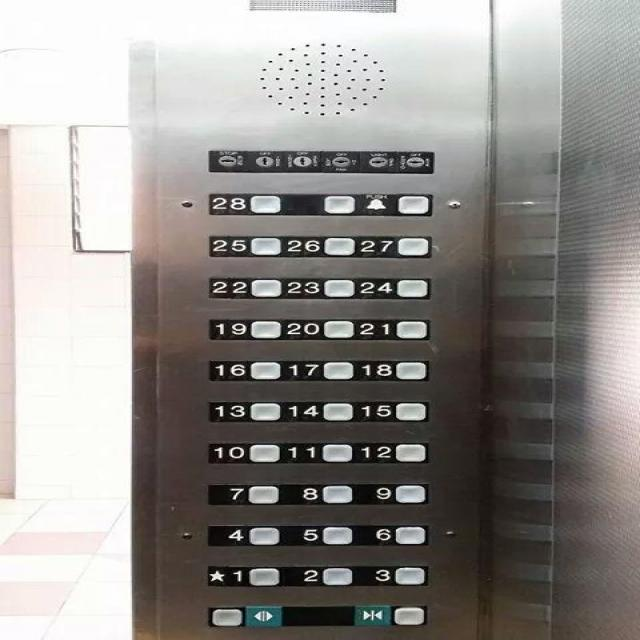10: (203, 440, 281, 464)
11: (281, 439, 355, 463)
12: (353, 439, 428, 464)
13: (206, 399, 282, 423)
14: (280, 398, 353, 422)
15: (355, 399, 429, 422)
16: (206, 358, 282, 382)
17: (283, 358, 356, 381)
18: (353, 357, 431, 382)
19: (205, 316, 284, 341)
2: (282, 562, 358, 588)
20: (284, 316, 356, 340)
21: (356, 317, 431, 340)
22: (204, 274, 284, 300)
23: (284, 276, 357, 300)
24: (357, 275, 431, 300)
25: (206, 232, 286, 258)
26: (282, 234, 358, 257)
27: (358, 233, 433, 258)
28: (205, 192, 288, 216)
3: (360, 562, 429, 586)
4: (204, 522, 284, 547)
5: (284, 522, 356, 547)
6: (356, 522, 429, 547)
7: (202, 481, 282, 505)
8: (283, 480, 357, 506)
9: (356, 480, 429, 505)
alarm: (357, 191, 435, 217)
close: (349, 602, 428, 626)
empty: (284, 190, 360, 215)
keyhole: (204, 148, 251, 173), (320, 148, 360, 175), (360, 148, 400, 175), (394, 149, 434, 176), (246, 148, 286, 174), (282, 148, 322, 174)
open: (204, 604, 283, 628)
s1: (201, 563, 287, 588)
